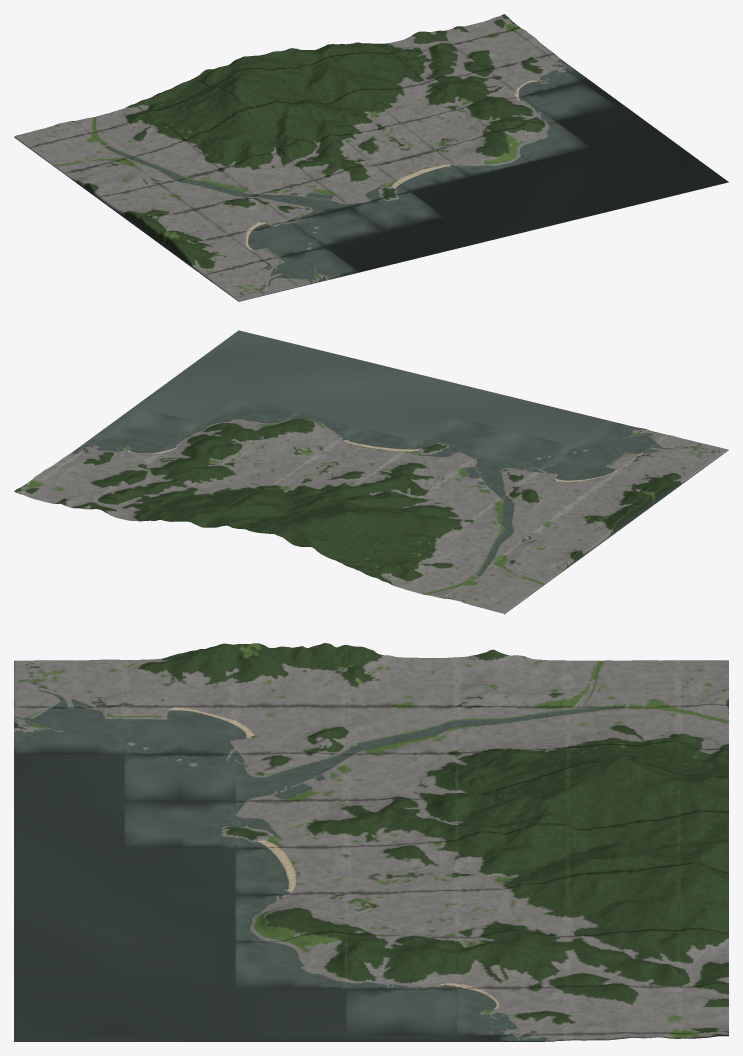
File: terrain.glb
3 renders of one model, top to bottom at view 1: azimuth 30°, elevation 25°; view 2: azimuth 150°, elevation 25°; view 3: azimuth 270°, elevation 25°, orthographic. The views are drawn at different scales.
Parts seen in each view (by area): view 1: TerrainWeb_2_4, TerrainWeb_3_4, TerrainWeb_2_5, TerrainWeb_4_5, TerrainWeb_3_3, TerrainWeb_1_5, TerrainWeb_5_2, TerrainWeb_2_3, TerrainWeb_4_4, TerrainWeb_0_1, TerrainWeb_5_5, TerrainWeb_6_2 (+44 smaller); view 2: TerrainWeb_2_5, TerrainWeb_0_3, TerrainWeb_1_5, TerrainWeb_5_3, TerrainWeb_0_4, TerrainWeb_0_2, TerrainWeb_1_3, TerrainWeb_1_4, TerrainWeb_7_5, TerrainWeb_6_1, TerrainWeb_7_3, TerrainWeb_4_1 (+44 smaller); view 3: TerrainWeb_5_5, TerrainWeb_0_2, TerrainWeb_3_5, TerrainWeb_4_4, TerrainWeb_0_1, TerrainWeb_6_5, TerrainWeb_6_3, TerrainWeb_6_4, TerrainWeb_0_3, TerrainWeb_6_2, TerrainWeb_0_4, TerrainWeb_1_1 (+50 smaller).
Boxes of the visible parts, x1,y1,x2,y2 form: TerrainWeb_2_4: (185, 109, 279, 168); TerrainWeb_3_4: (246, 100, 340, 150); TerrainWeb_2_5: (151, 87, 245, 140); TerrainWeb_4_5: (271, 56, 365, 103); TerrainWeb_3_3: (281, 134, 374, 179); TerrainWeb_1_5: (90, 111, 184, 158); TerrainWeb_5_2: (436, 131, 530, 176); TerrainWeb_2_3: (220, 151, 314, 195); TerrainWeb_4_4: (306, 89, 400, 135); TerrainWeb_0_1: (169, 235, 263, 275); TerrainWeb_5_5: (332, 52, 426, 89); TerrainWeb_6_2: (496, 121, 590, 162); TerrainWeb_2_5: (339, 512, 433, 565); TerrainWeb_0_3: (530, 511, 624, 551); TerrainWeb_1_5: (399, 543, 493, 587); TerrainWeb_5_3: (228, 432, 322, 475); TerrainWeb_0_4: (495, 536, 589, 577); TerrainWeb_0_2: (564, 485, 659, 526); TerrainWeb_1_3: (469, 497, 563, 536); TerrainWeb_1_4: (434, 521, 528, 562); TerrainWeb_7_5: (37, 459, 131, 498); TerrainWeb_6_1: (237, 372, 331, 412); TerrainWeb_7_3: (107, 409, 201, 448); TerrainWeb_4_1: (358, 402, 452, 441); TerrainWeb_5_5: (568, 865, 678, 936); TerrainWeb_0_2: (235, 643, 346, 706); TerrainWeb_3_5: (568, 759, 678, 829); TerrainWeb_4_4: (457, 823, 567, 890); TerrainWeb_0_1: (124, 643, 235, 706); TerrainWeb_6_5: (568, 930, 678, 987); TerrainWeb_6_3: (346, 933, 457, 989); TerrainWeb_6_4: (457, 930, 567, 989); TerrainWeb_0_3: (346, 645, 457, 706); TerrainWeb_6_2: (235, 931, 346, 988); TerrainWeb_0_4: (457, 649, 567, 706); TerrainWeb_1_1: (124, 706, 235, 754).
Size of the model in its own units: 10400 by 645 by 8260.
